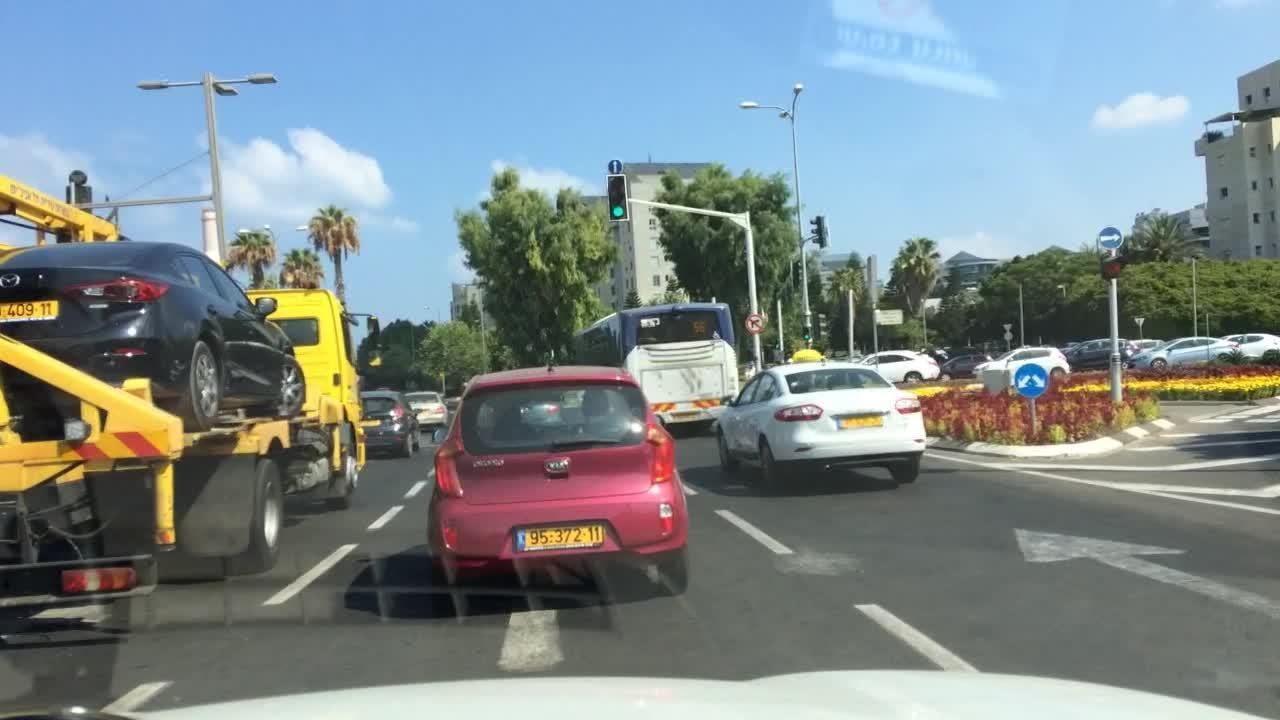Mazda: (0, 262, 27, 293)
kia: (539, 455, 580, 482)
